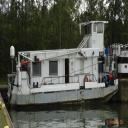tugboat: (7, 19, 121, 114)
